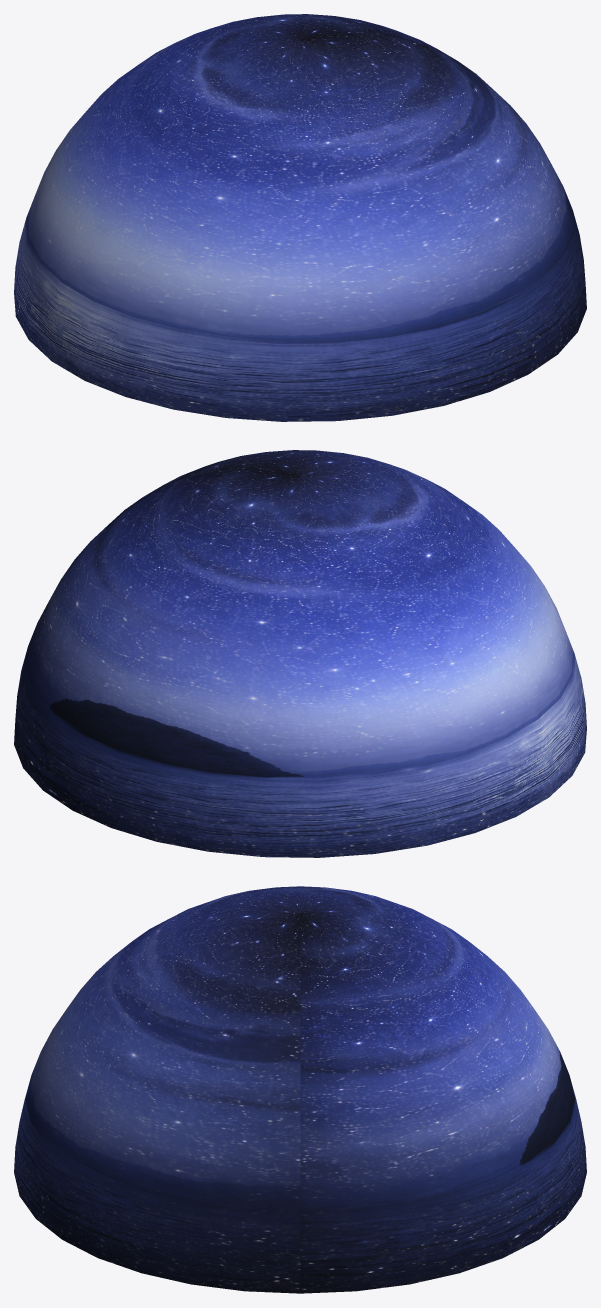
Rendered from night.fbx.
3 views of the same model, one above another, from view 1: azimuth 30°, elevation 25°; view 2: azimuth 150°, elevation 25°; view 3: azimuth 270°, elevation 25° (orthographic).
Parts seen in each view (by area): view 1: star_sky_dome; view 2: star_sky_dome; view 3: star_sky_dome.
Boxes of the visible parts, x1,y1,x2,y2 form: star_sky_dome: [14, 14, 586, 421]; star_sky_dome: [14, 450, 586, 857]; star_sky_dome: [14, 886, 586, 1293].
Size of the model in its own units: 20000 by 10000 by 20000.
1 material, 1 textured.
